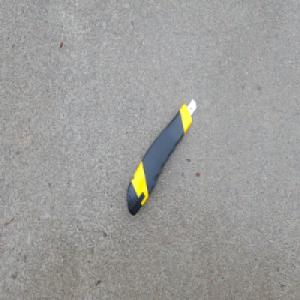Cutter: (125, 99, 195, 217)
